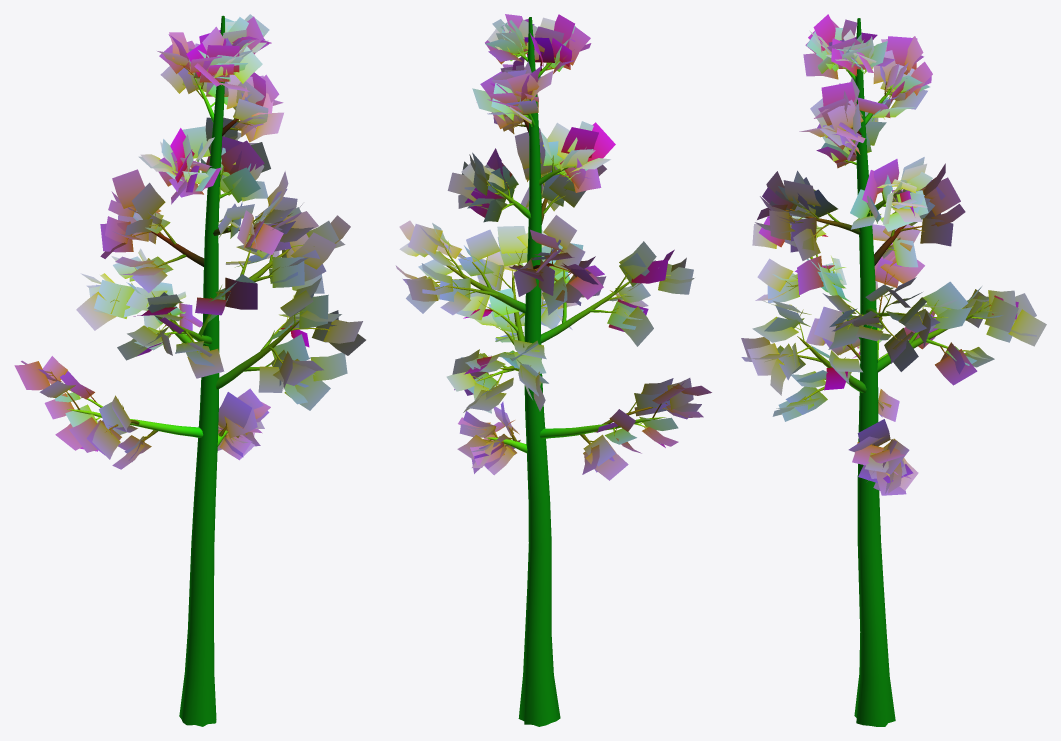
Rendered from alnus_glutinosa.glb.
3 views of the same model, side by side, from view 1: azimuth 30°, elevation 25°; view 2: azimuth 150°, elevation 25°; view 3: azimuth 270°, elevation 25° (orthographic). The views are drawn at different scales.
Parts seen in each view (by area): view 1: alnus_glutinosa_lod0; view 2: alnus_glutinosa_lod0; view 3: alnus_glutinosa_lod0.
Boxes of the visible parts, x1=… form: alnus_glutinosa_lod0: x1=14, y1=14, x2=365, y2=726; alnus_glutinosa_lod0: x1=395, y1=14, x2=711, y2=726; alnus_glutinosa_lod0: x1=741, y1=14, x2=1046, y2=726.
Size of what is drawn, in the model's own units: 6.83 by 14.51 by 5.68.
